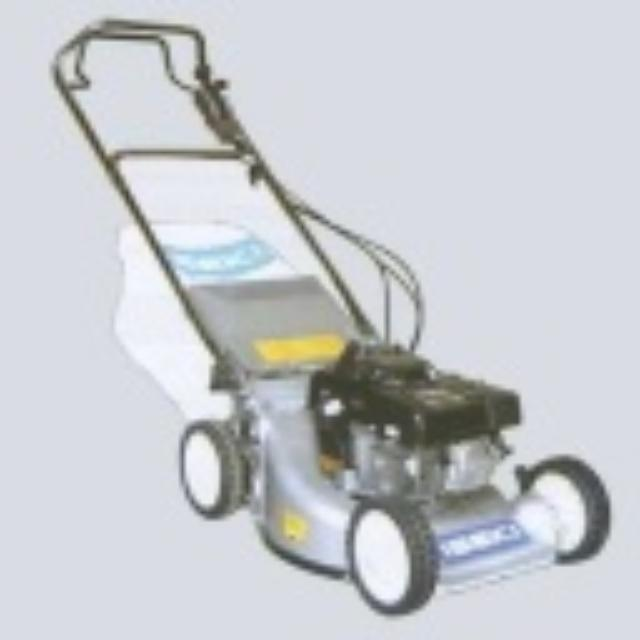Rotary-Mower: (47, 19, 625, 607)
